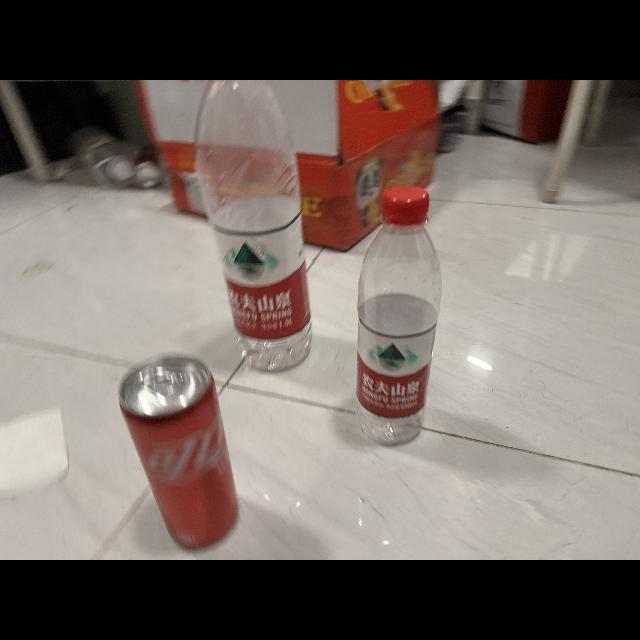Cola: (104, 344, 250, 558)
